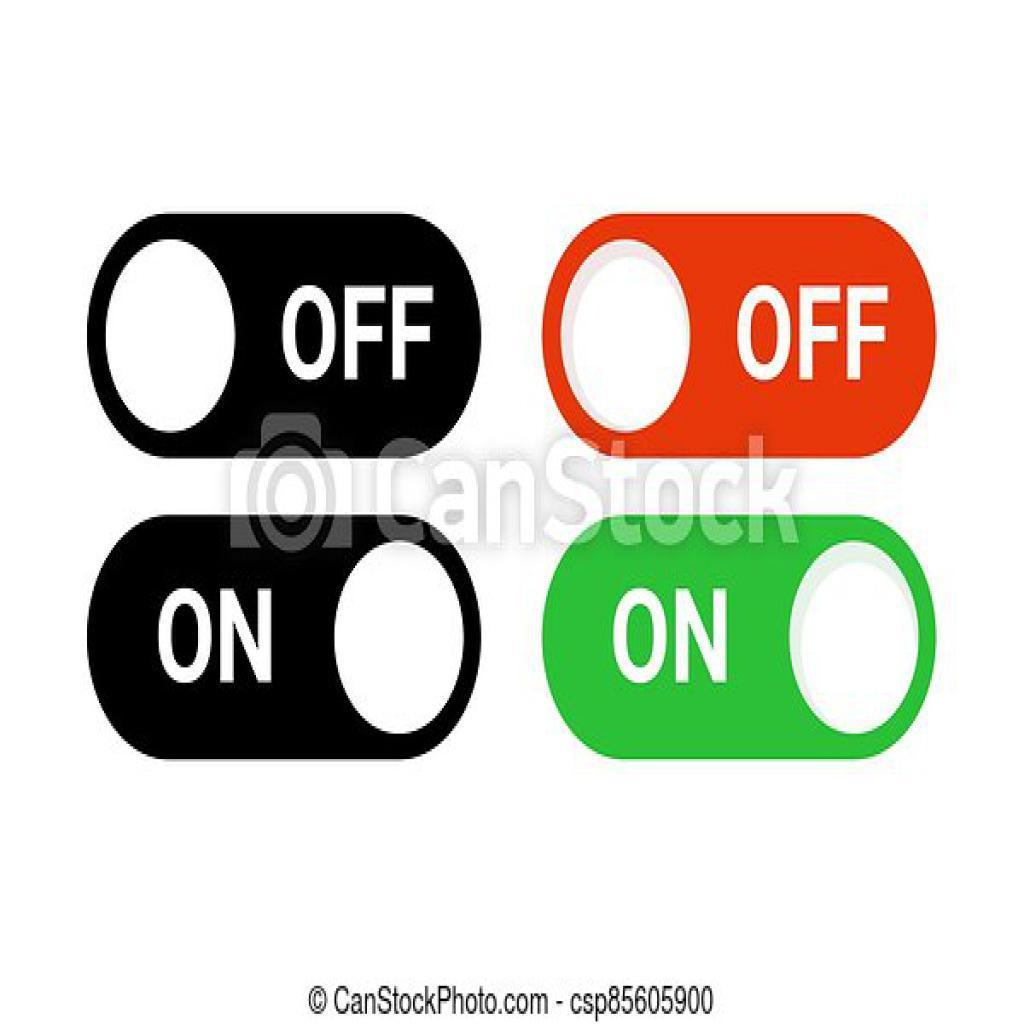switch: (540, 515, 942, 760), (544, 212, 938, 460), (91, 211, 482, 460), (85, 515, 480, 760)
